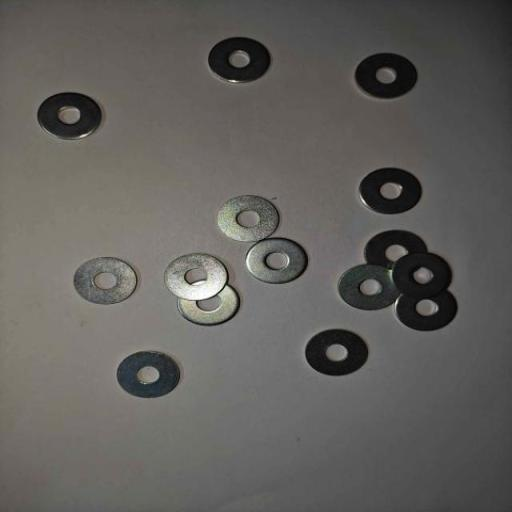washer: (36, 90, 104, 140), (163, 252, 229, 302), (73, 256, 138, 306), (116, 350, 181, 400), (358, 166, 422, 216), (394, 284, 458, 333), (304, 328, 369, 376), (217, 194, 280, 243), (354, 52, 418, 100), (244, 237, 309, 284), (337, 264, 399, 312), (391, 250, 453, 298), (207, 38, 271, 84), (176, 280, 240, 326), (363, 229, 428, 272)
